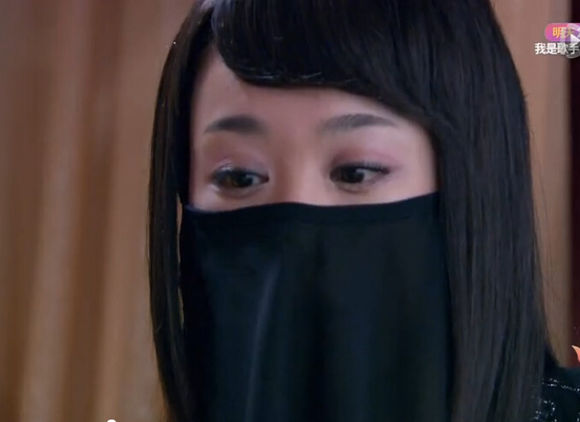face_mask: (193, 69, 435, 356)
